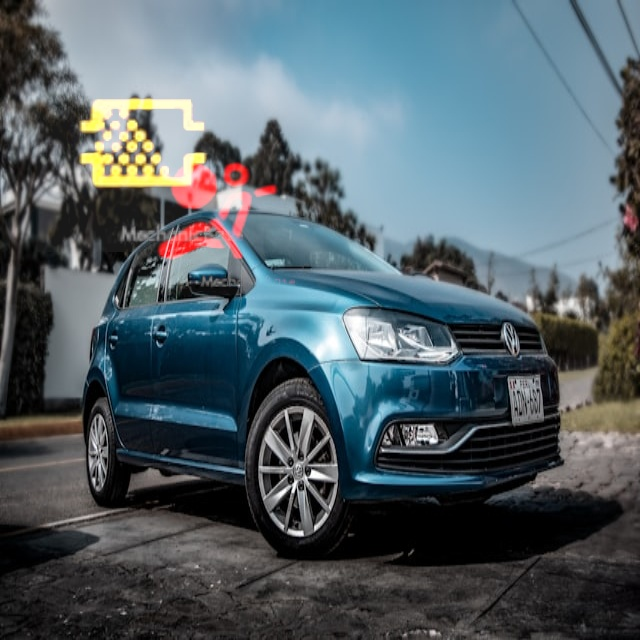symbol: (36, 36, 252, 252), (136, 129, 302, 295)
